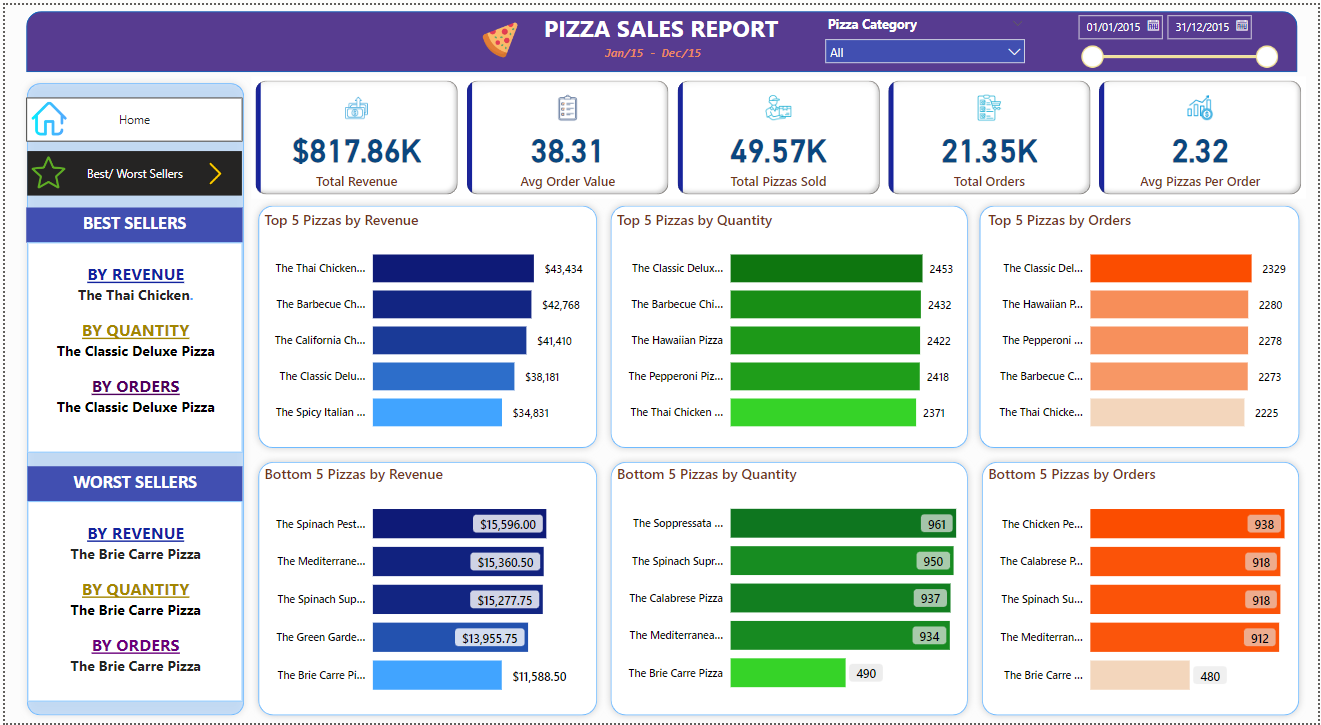

Layout of this report page (visuals, bound fields, positions):
{"tool":"powerbi","page":{"name":"Best/ Worst Sellers","canvas":[1500,820],"ordinal":1},"visuals":[{"type":"shape","box":[17.1,81.4,264.3,738.6],"z":0},{"type":"cardVisual","fields":{"Data":["pizza_sales_excel_file.Total Revenue","pizza_sales_excel_file.Avg Total Value","pizza_sales_excel_file.Total Pizzas Sold","pizza_sales_excel_file.Total Orders","pizza_sales_excel_file.Avg Pizzas Per Order"]},"box":[281.4,81.4,1205.7,140],"z":1000},{"type":"shape","box":[23.9,7.2,1452.8,69.4],"z":2000},{"type":"textbox","box":[608.6,2.9,290,51.4],"z":3000},{"type":"textbox","box":[660,40,160,31.4],"z":4000},{"type":"image","box":[537.1,14.3,57.1,51.4],"z":5000},{"type":"shape","box":[281.4,221.4,402.9,292.9],"z":6000},{"type":"textbox","box":[24.3,231.4,247.1,40],"z":7000},{"type":"textbox","box":[25.7,271.4,245.7,240],"z":8000},{"type":"textbox","box":[25.7,527.1,245.7,40],"z":9000},{"type":"textbox","box":[25.7,567.1,245.7,228.6],"z":10000},{"type":"slicer","fields":{"Values":["pizza_sales_excel_file.pizza_category"]},"box":[927.1,7.1,248.6,60],"z":11000},{"type":"slicer","fields":{"Values":["pizza_sales_excel_file.order_date"]},"box":[1214.4,1.1,248.9,76.7],"z":12000},{"type":"shape","box":[684.3,221.4,424.3,292.9],"z":13000},{"type":"shape","box":[1105.7,221.4,381.4,292.9],"z":14000},{"type":"shape","box":[281.4,514.3,402.9,305.7],"z":15000},{"type":"shape","box":[684.3,514.3,424.3,305.7],"z":16000},{"type":"shape","box":[1108.6,514.3,378.6,305.7],"z":17000},{"type":"barChart","title":"Top 5 Pizzas by Revenue","fields":{"Category":["pizza_sales_excel_file.pizza_name"],"Y":["pizza_sales_excel_file.Total Revenue"]},"box":[291.4,234.3,382.9,270],"z":18000},{"type":"barChart","title":"Bottom 5 Pizzas by Revenue","fields":{"Category":["pizza_sales_excel_file.pizza_name"],"Y":["pizza_sales_excel_file.Total Revenue"]},"box":[291.4,524.3,382.9,281.4],"z":19000},{"type":"barChart","title":"Bottom 5 Pizzas by Quantity","fields":{"Category":["pizza_sales_excel_file.pizza_name"],"Y":["pizza_sales_excel_file.Total Pizzas Sold"]},"box":[694.3,524.3,402.9,278.6],"z":20000},{"type":"barChart","title":"Top 5 Pizzas by Quantity","fields":{"Category":["pizza_sales_excel_file.pizza_name"],"Y":["pizza_sales_excel_file.Total Pizzas Sold"]},"box":[694.3,234.3,402.9,270],"z":21000},{"type":"barChart","title":"Top 5 Pizzas by Orders","fields":{"Category":["pizza_sales_excel_file.pizza_name"],"Y":["pizza_sales_excel_file.Total Orders"]},"box":[1119,234,359,270],"z":22000},{"type":"barChart","title":"Bottom 5 Pizzas by Orders","fields":{"Category":["pizza_sales_excel_file.pizza_name"],"Y":["pizza_sales_excel_file.Total Orders"]},"box":[1118.6,524.3,358.6,281.4],"z":23000},{"type":"pageNavigator","box":[24.3,105.7,247.1,50],"z":24000},{"type":"pageNavigator","box":[25.7,167.1,245.7,50],"z":25000},{"type":"image","box":[222.9,167.1,35.7,51.4],"z":26000},{"type":"image","box":[25.7,104.3,50,51.4],"z":27000},{"type":"image","box":[25.7,165.7,48.6,51.4],"z":28000}]}

Visuals, with their boxes in screenshot pixels (x1, y1, x2, y2), scaled from the page's 1500x820 canvas onto the 1321x725 screenshot:
shape: x1=15 y1=72 x2=248 y2=724
cardVisual - pizza_sales_excel_file.Total Revenue x pizza_sales_excel_file.Avg Total Value: x1=248 y1=72 x2=1310 y2=196
shape: x1=21 y1=6 x2=1300 y2=68
textbox: x1=536 y1=3 x2=791 y2=48
textbox: x1=581 y1=35 x2=722 y2=63
image: x1=473 y1=13 x2=523 y2=58
shape: x1=248 y1=196 x2=603 y2=455
textbox: x1=21 y1=205 x2=239 y2=240
textbox: x1=23 y1=240 x2=239 y2=452
textbox: x1=23 y1=466 x2=239 y2=501
textbox: x1=23 y1=501 x2=239 y2=704
slicer - pizza_sales_excel_file.pizza_category: x1=816 y1=6 x2=1035 y2=59
slicer - pizza_sales_excel_file.order_date: x1=1069 y1=1 x2=1289 y2=69
shape: x1=603 y1=196 x2=976 y2=455
shape: x1=974 y1=196 x2=1310 y2=455
shape: x1=248 y1=455 x2=603 y2=724
shape: x1=603 y1=455 x2=976 y2=724
shape: x1=976 y1=455 x2=1310 y2=724
"Top 5 Pizzas by Revenue" barChart: x1=257 y1=207 x2=594 y2=446
"Bottom 5 Pizzas by Revenue" barChart: x1=257 y1=464 x2=594 y2=712
"Bottom 5 Pizzas by Quantity" barChart: x1=611 y1=464 x2=966 y2=710
"Top 5 Pizzas by Quantity" barChart: x1=611 y1=207 x2=966 y2=446
"Top 5 Pizzas by Orders" barChart: x1=985 y1=207 x2=1302 y2=446
"Bottom 5 Pizzas by Orders" barChart: x1=985 y1=464 x2=1301 y2=712
pageNavigator: x1=21 y1=93 x2=239 y2=138
pageNavigator: x1=23 y1=148 x2=239 y2=192
image: x1=196 y1=148 x2=228 y2=193
image: x1=23 y1=92 x2=67 y2=138
image: x1=23 y1=147 x2=65 y2=192
